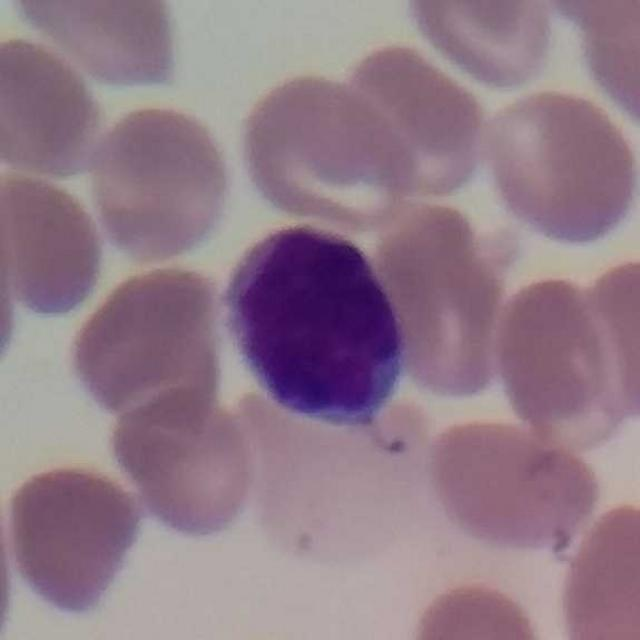Lymphocyte: (220, 216, 426, 444)
RBC: (232, 68, 419, 230), (323, 36, 491, 204), (477, 84, 640, 250), (372, 216, 514, 403), (62, 260, 230, 418), (83, 98, 240, 266), (422, 412, 606, 555), (107, 386, 261, 543), (2, 457, 147, 622), (488, 267, 618, 441), (2, 0, 190, 93), (0, 168, 110, 323), (0, 31, 106, 182), (398, 0, 558, 91), (551, 495, 640, 640), (579, 248, 640, 432), (402, 575, 562, 640), (569, 0, 640, 136), (0, 175, 24, 389), (534, 0, 639, 32), (0, 467, 19, 640)
